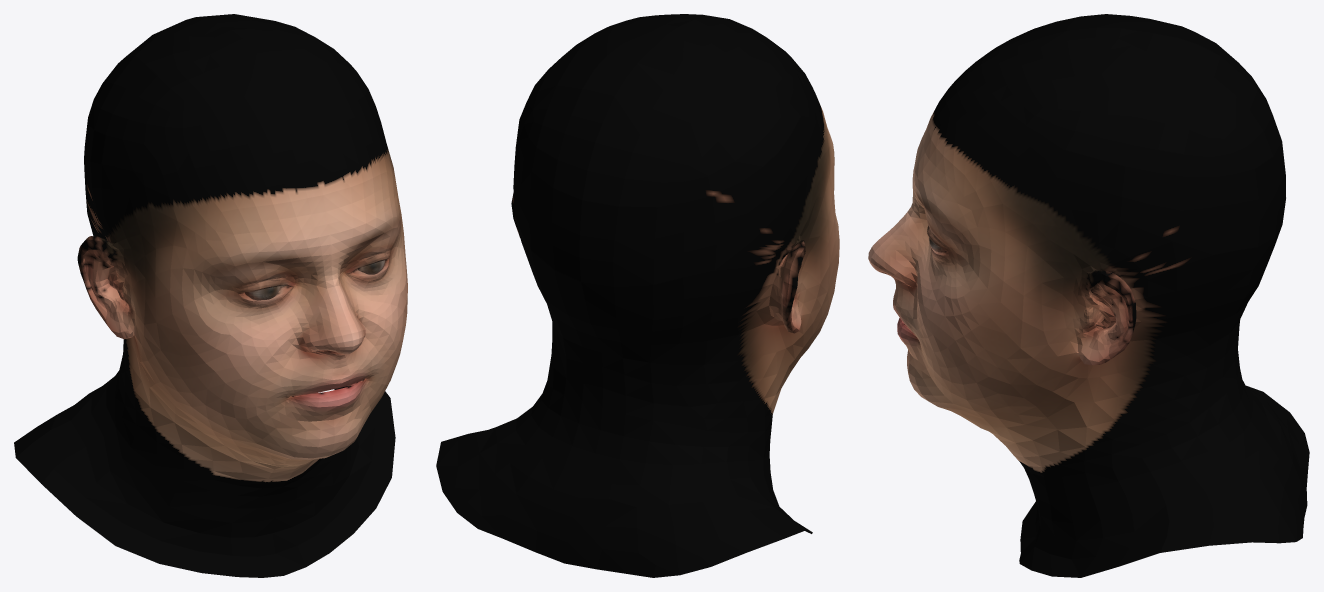
Rendered from IMG_0392_inputs.obj.
The picture shows the model from 3 angles, left to right: view 1: azimuth 30°, elevation 25°; view 2: azimuth 150°, elevation 25°; view 3: azimuth 270°, elevation 25°; orthographic projection. The views are drawn at different scales.
Size of the model in its own units: 0.2272 by 0.3189 by 0.2435.
Materials: 1 (1 with a texture image).
